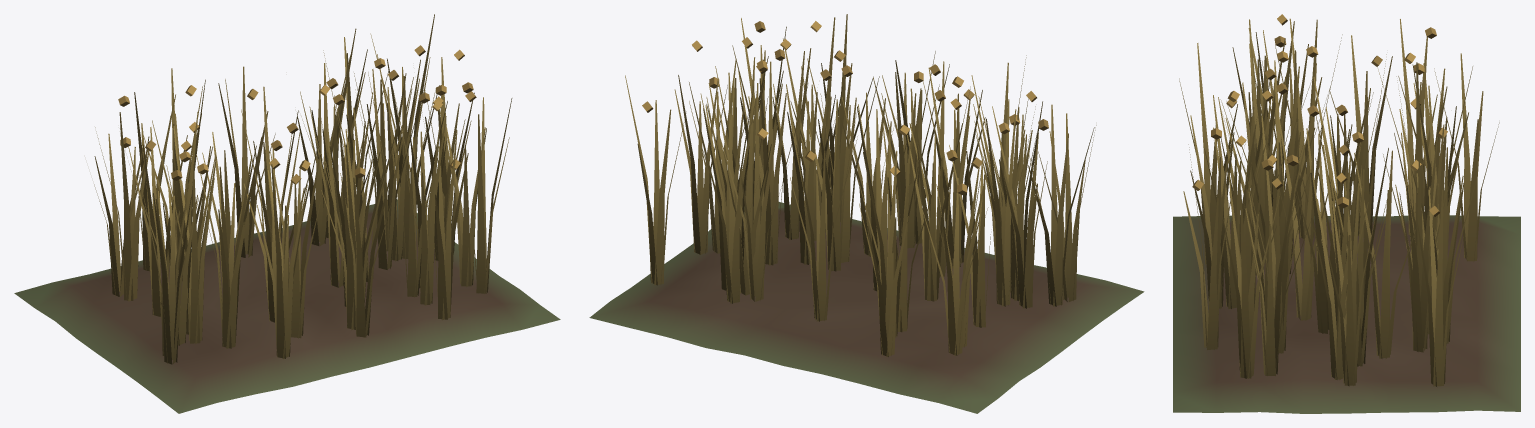
The model's file is ph_env_flax_bed.glb.
The picture shows the model from 3 angles, left to right: view 1: azimuth 30°, elevation 25°; view 2: azimuth 150°, elevation 25°; view 3: azimuth 270°, elevation 25°; orthographic projection. The views are drawn at different scales.
Parts seen in each view (by area): view 1: ph_env_flax_bed; view 2: ph_env_flax_bed; view 3: ph_env_flax_bed.
Boxes of the visible parts, x1,y1,x2,y2 form: ph_env_flax_bed: (14, 14, 560, 413); ph_env_flax_bed: (589, 14, 1144, 413); ph_env_flax_bed: (1173, 14, 1520, 413).
Bounding box in the file's own units: 1.55 × 0.8554 × 1.15.
